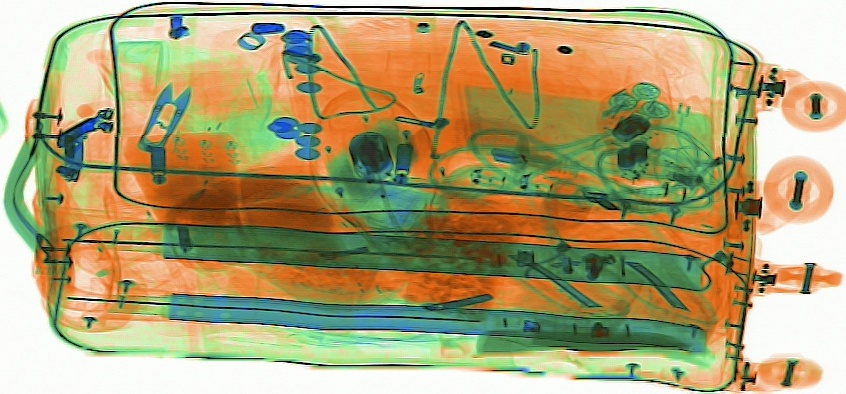scissors: (135, 79, 193, 155)
